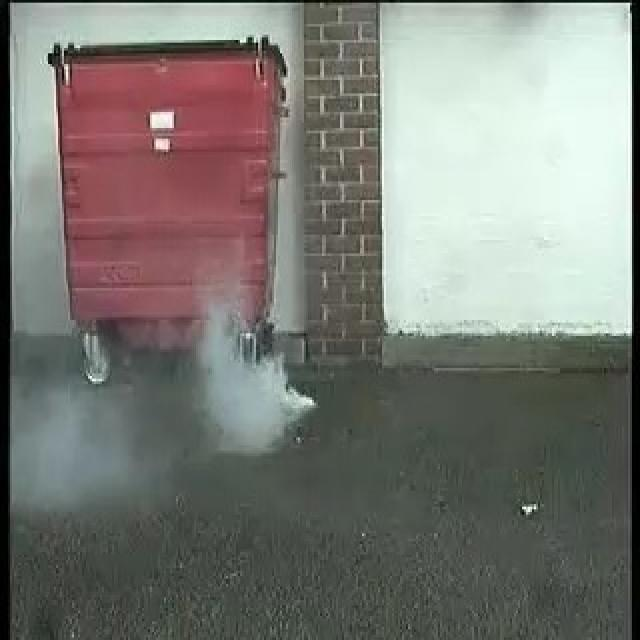smoke: (203, 311, 316, 452)
